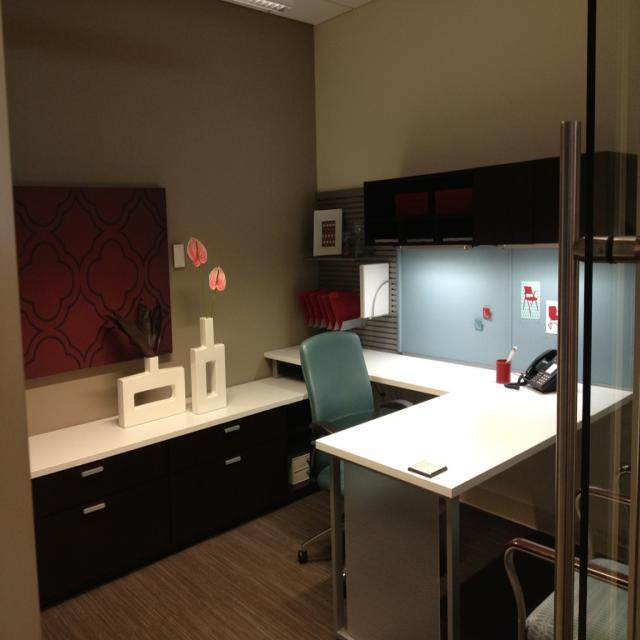chair: (297, 332, 412, 576)
desk: (266, 352, 628, 640)
